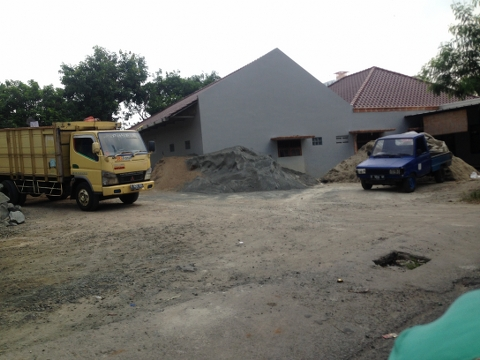mobil: (1, 121, 155, 212), (356, 134, 452, 193)
